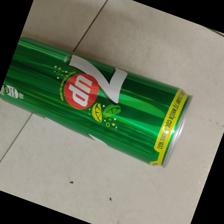7up: (1, 36, 194, 169)
